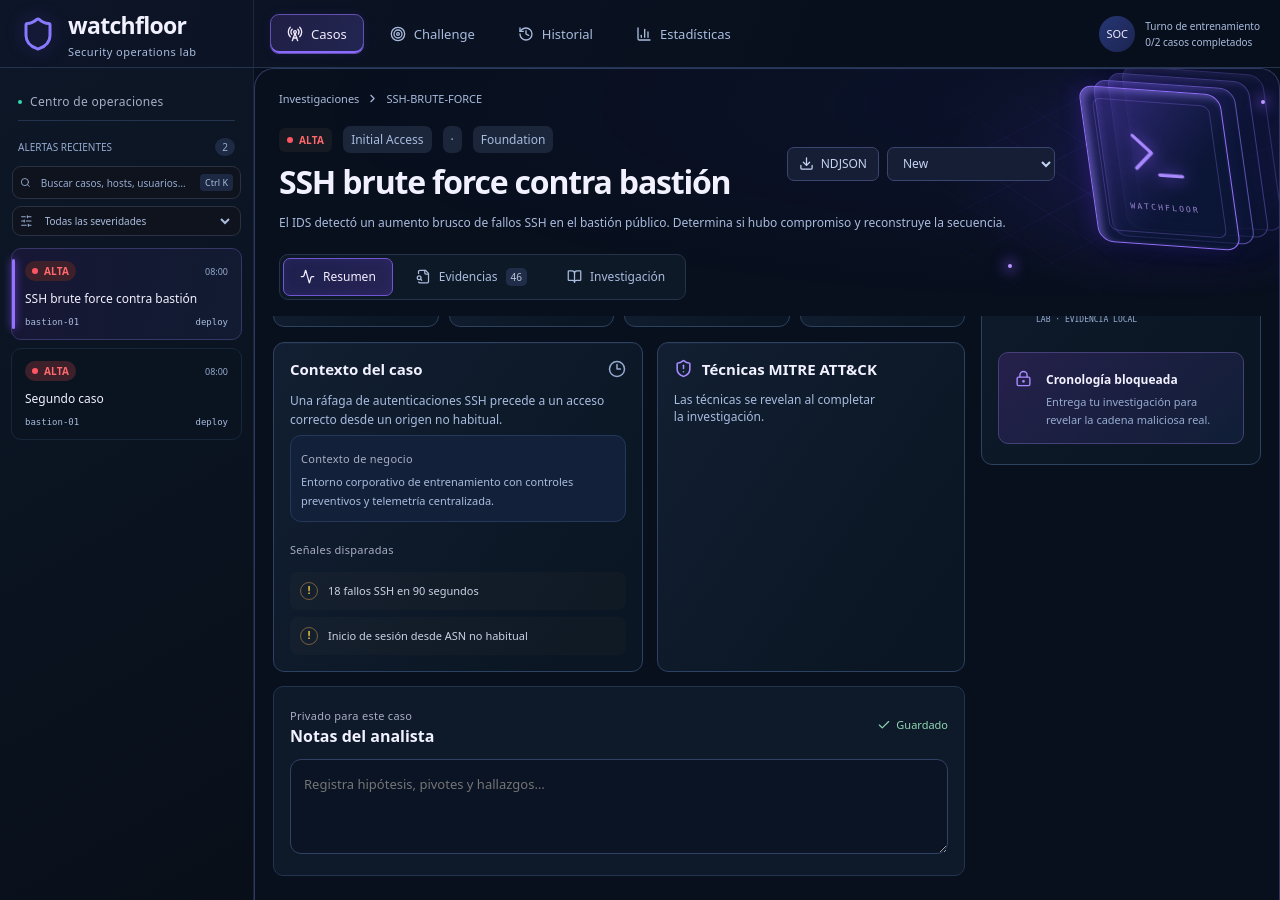
Scenario: workspace continuity › keeps unsaved notes when switching cases before the autosave runs
The width and height of the screenshot is (1280, 900).
(page scrolled)
Check: the heading "SSH brute force contra bastión" is shown, box [279, 163, 730, 201]
Type "Borrador" into the text box named "Notas del analista". click: coordinates (619, 806)
box: [290, 758, 948, 854]
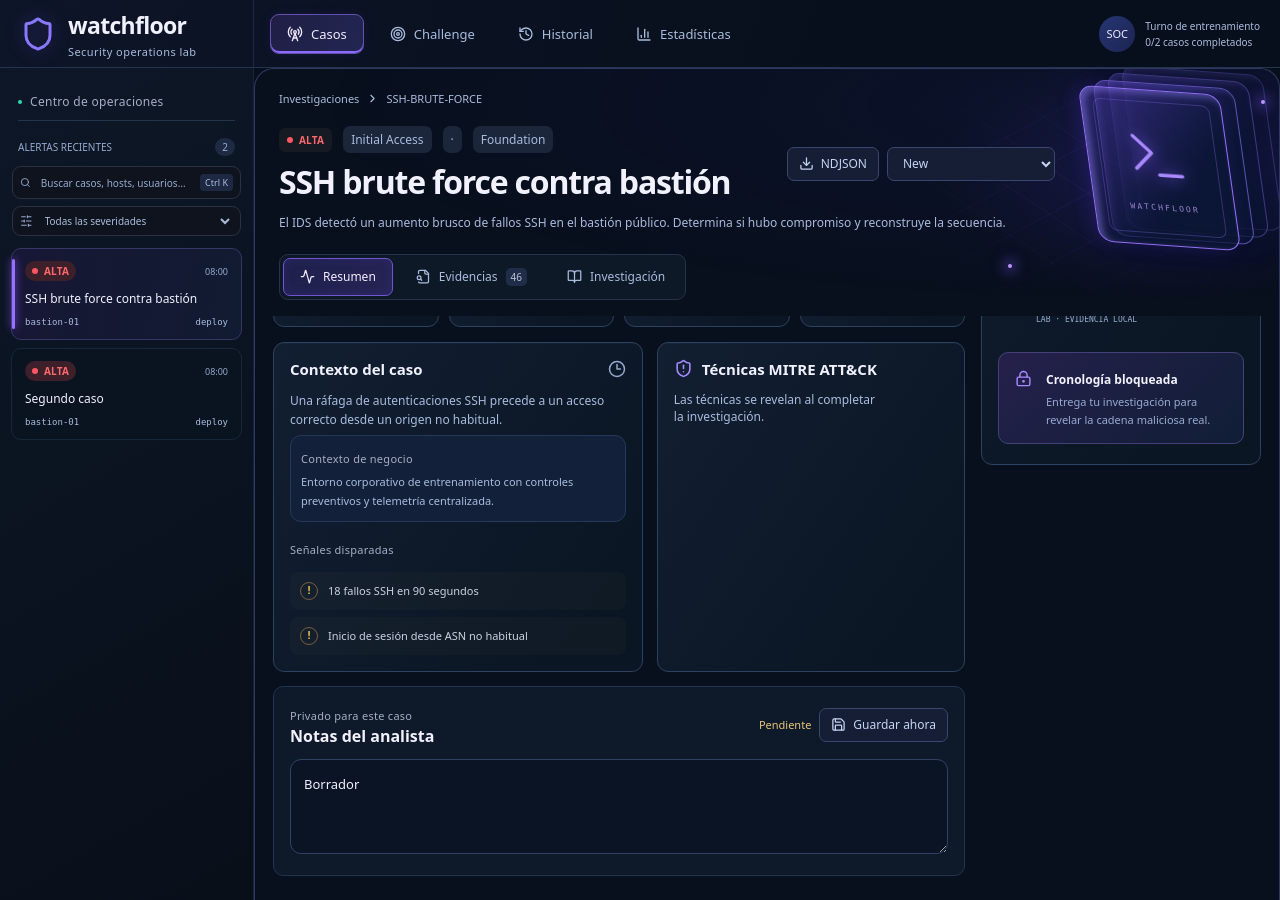
Click the button "Alta 08:00 Segundo caso bastion-01 deploy". click: coordinates (126, 394)
box: [11, 348, 242, 440]
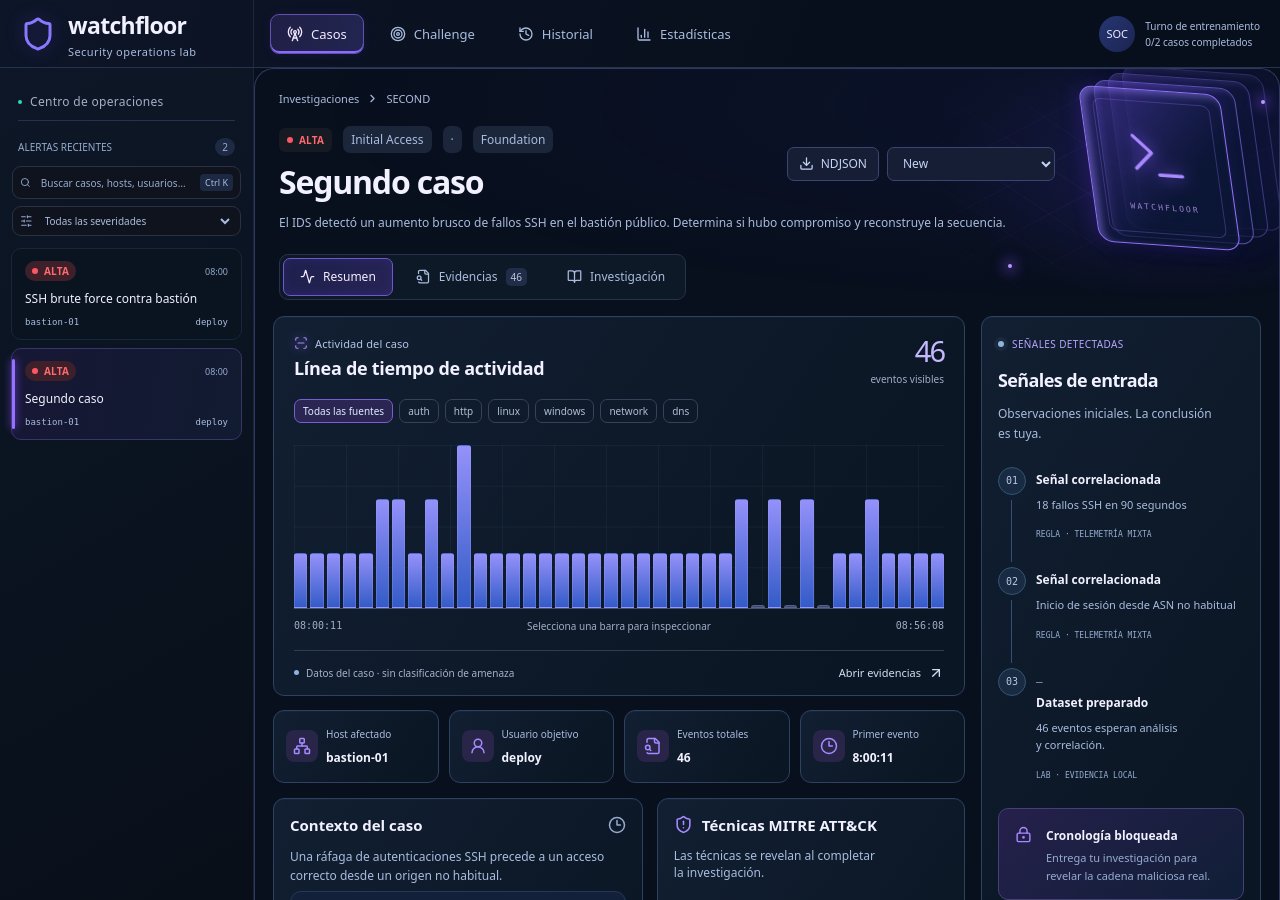
Check: the heading "Segundo caso" is shown, box [279, 160, 483, 203]
Click the button "Alta 08:00 SSH brute force contra bastión bastion-01 deploy". click: coordinates (126, 294)
box: [11, 248, 242, 340]
(page scrolled)
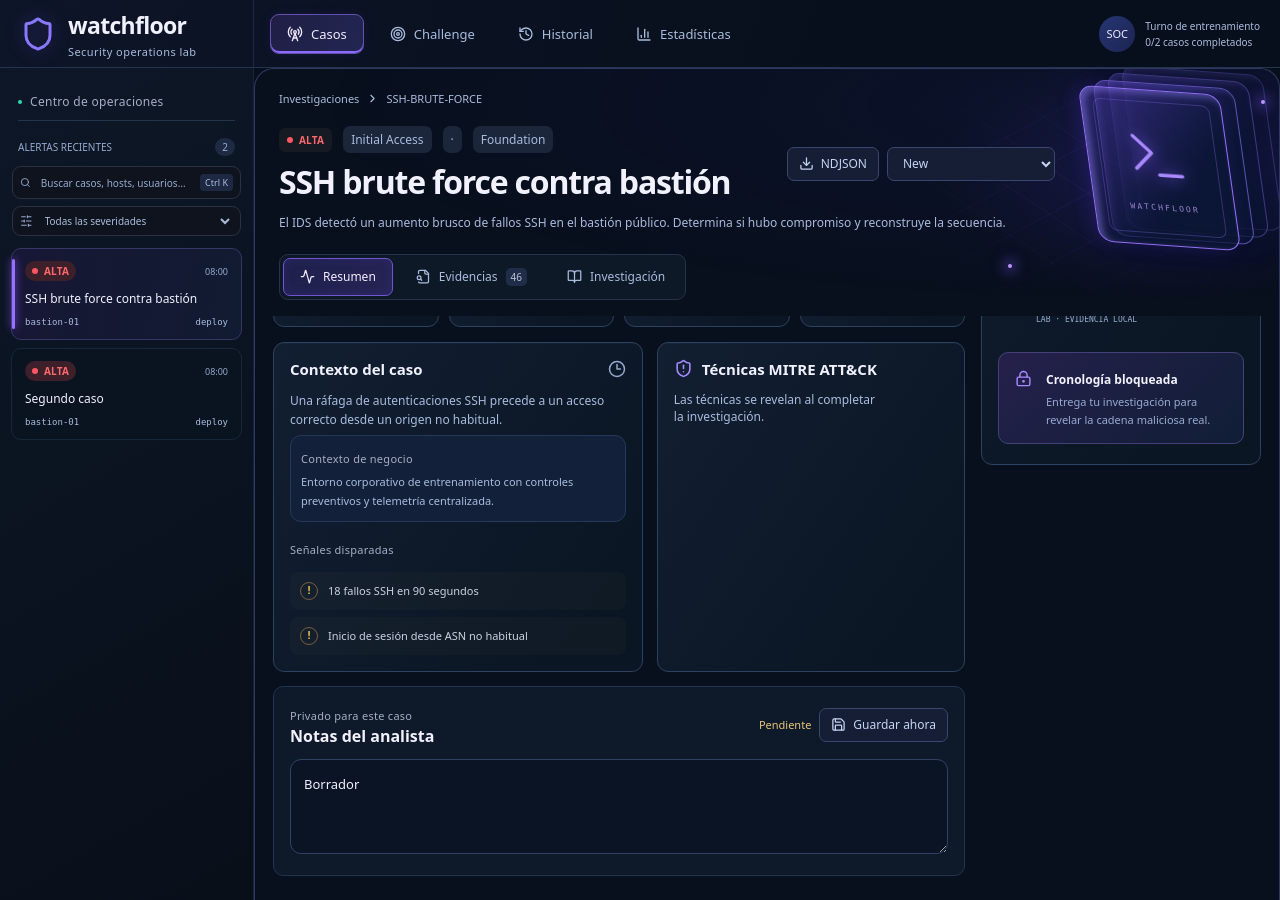
Check: the heading "SSH brute force contra bastión" is shown, box [279, 163, 730, 201]
Check: the text box named "Notas del analista" holds "Borrador", box [290, 758, 948, 854]
